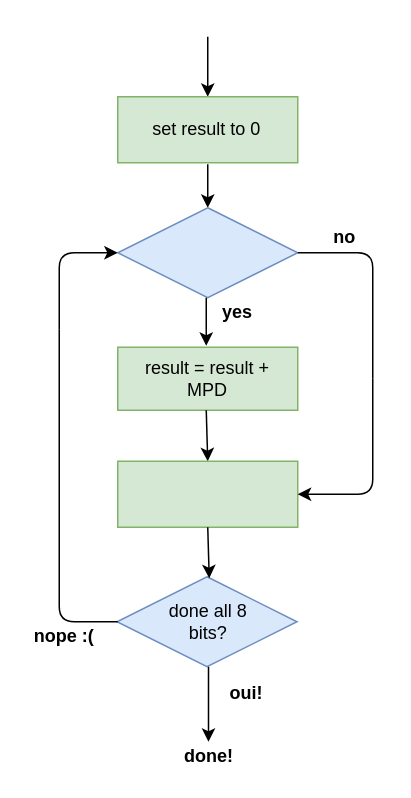
This 411x798 diagram has some shape labels left out. The box of each missing label's shape, as (x1, y1, x2, y2) in pixels:
left shift MPD: (116, 460, 298, 527)
significant bit of MPR = 1?: (116, 206, 298, 298)
